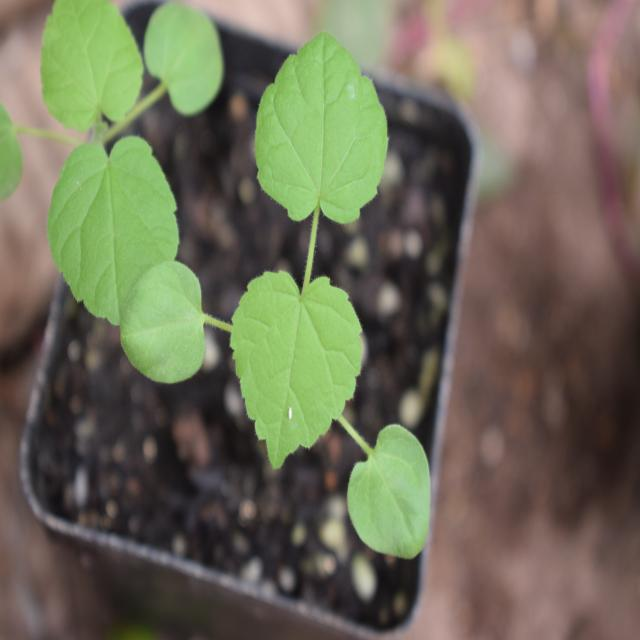abutilon theophrasti: (124, 42, 453, 544)
